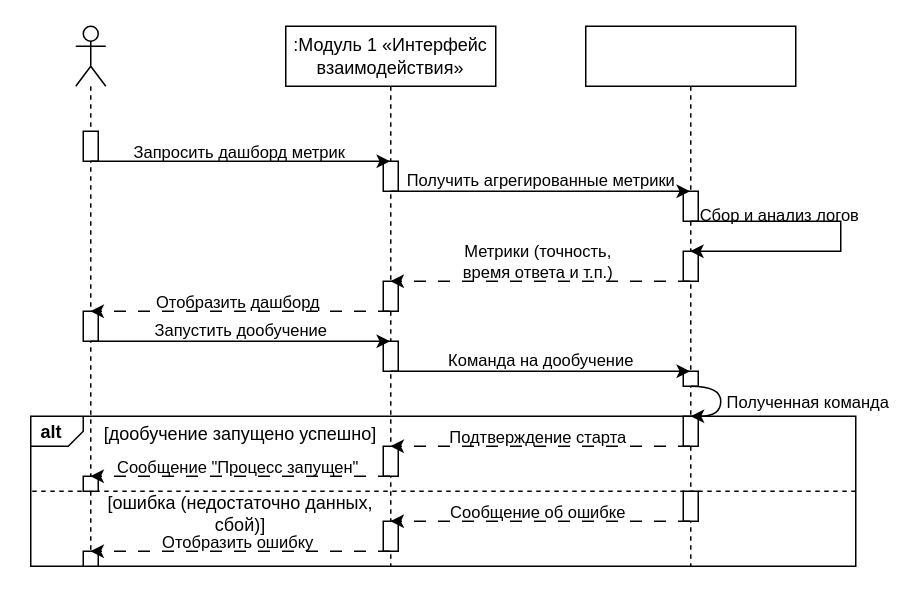
Some shapes in this 914 by 593 pixel diagram are drawn without their labels. The shapes that lost their labels are listed below. From the top down, each one's centre as x and y in pixels, then its label:
At (x=90, y=295): "Администратор нейросети".
At (x=690, y=295): ":Модуль 3 «Аналитика и администрирование»".
